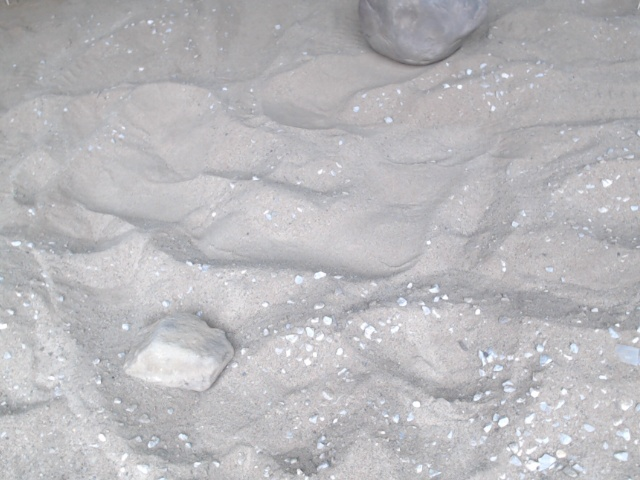rock: (117, 309, 240, 398), (351, 1, 494, 72)
